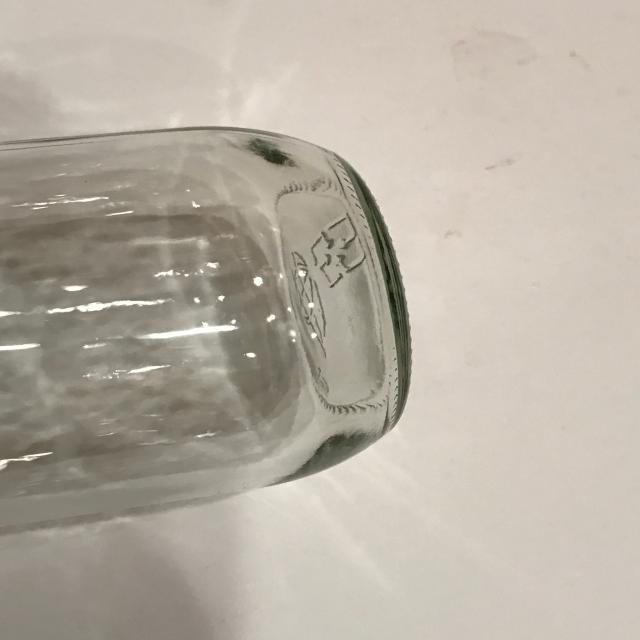glass: (1, 124, 417, 546)
